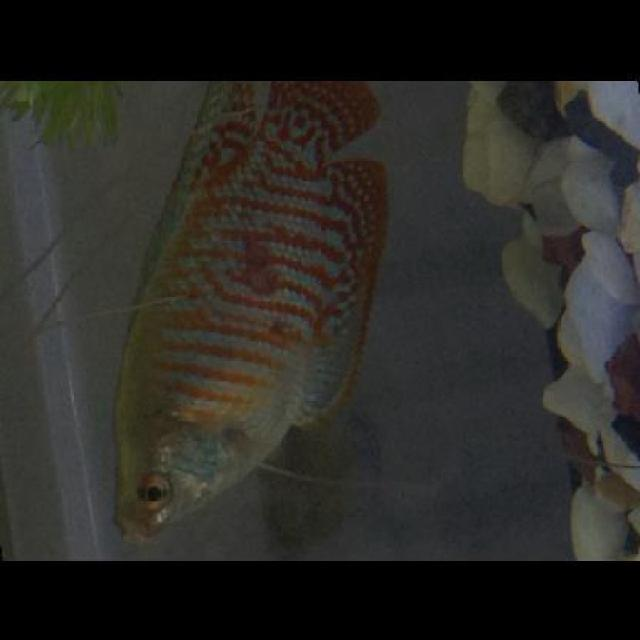Gourami: (107, 80, 390, 538)
